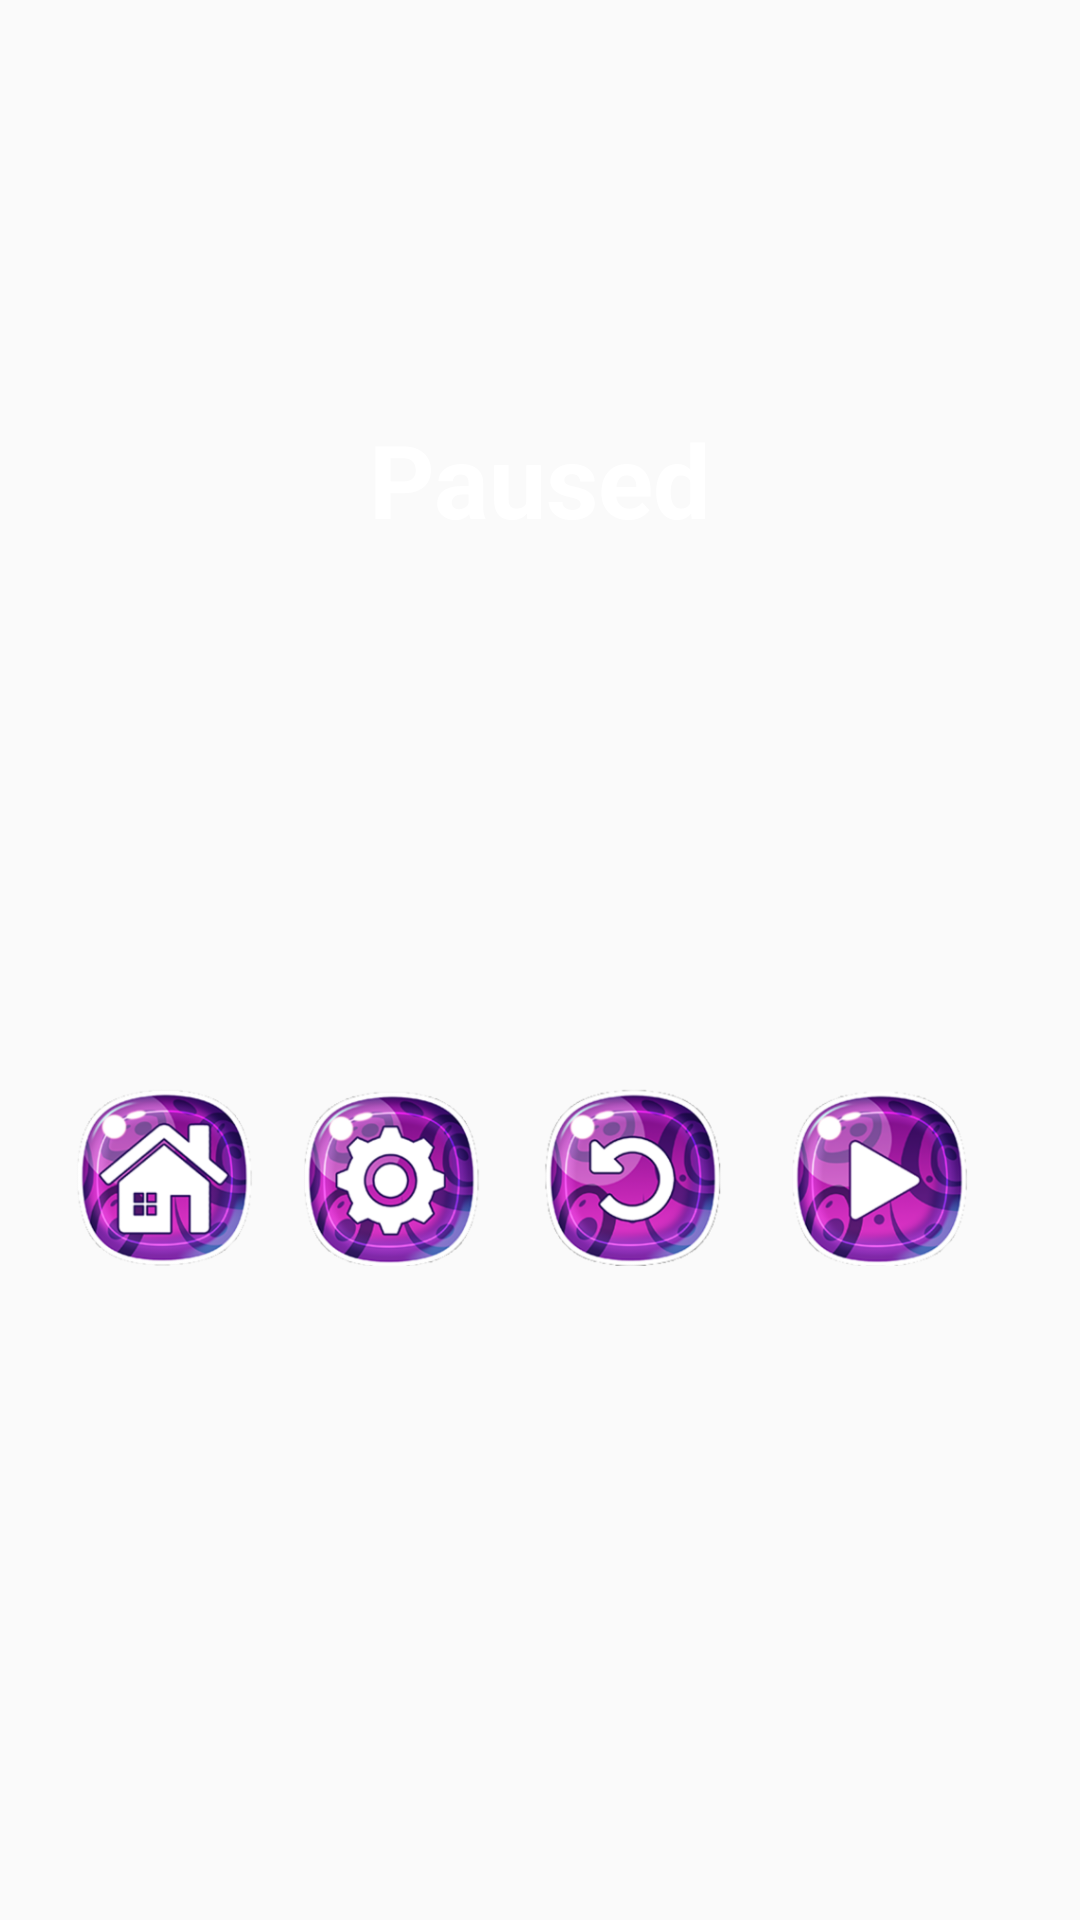

Locate icon controls on the screen. Image size 1080px x 1920px, boxes as (x1, y1, x2, y2).
Settings: (305, 1093, 479, 1266)
